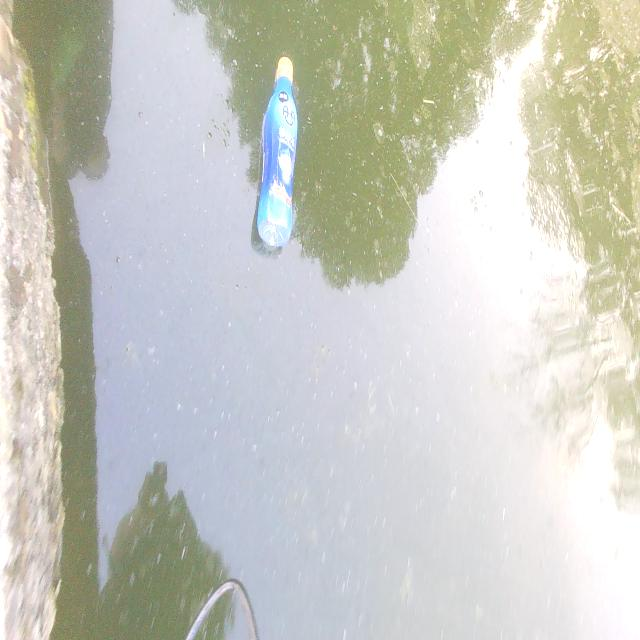bottle: (229, 18, 325, 298)
